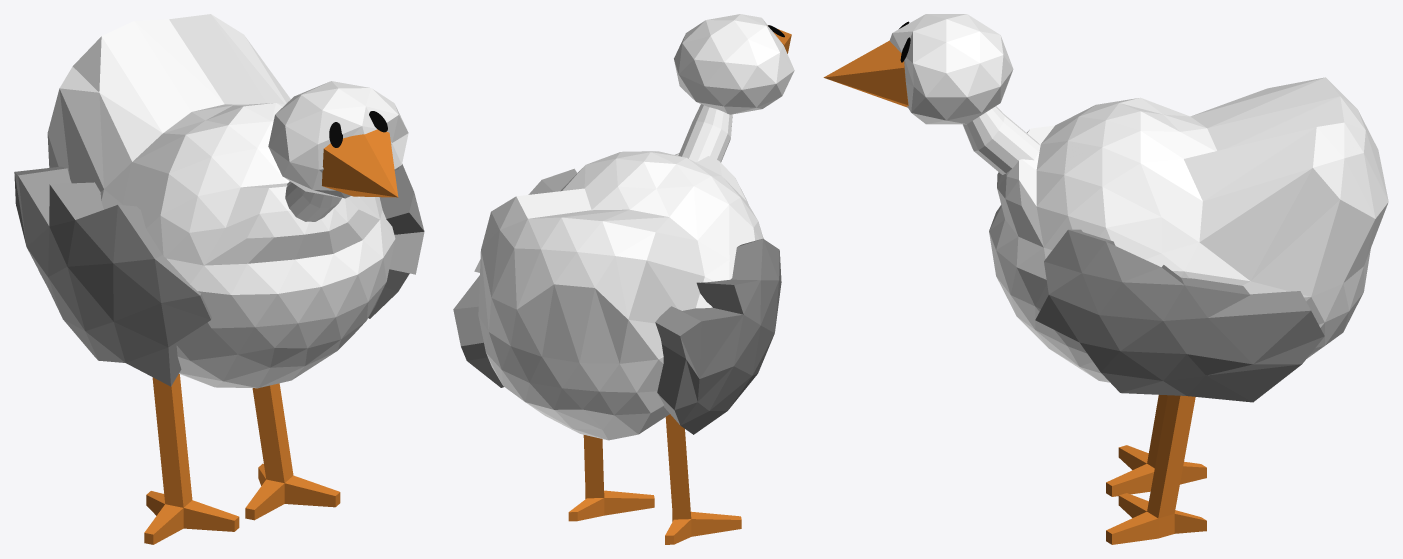
The model's file is Chicken.fbx.
3 views of the same model, side by side, from view 1: azimuth 30°, elevation 25°; view 2: azimuth 150°, elevation 25°; view 3: azimuth 270°, elevation 25° (orthographic). The views are drawn at different scales.
Parts seen in each view (by area): view 1: Icosphere; view 2: Icosphere; view 3: Icosphere.
Part boxes in pixels (x1=…): Icosphere: x1=14, y1=14, x2=424, y2=544; Icosphere: x1=453, y1=14, x2=794, y2=544; Icosphere: x1=823, y1=14, x2=1388, y2=544.
Size of the model in its own units: 243 by 372 by 389.
